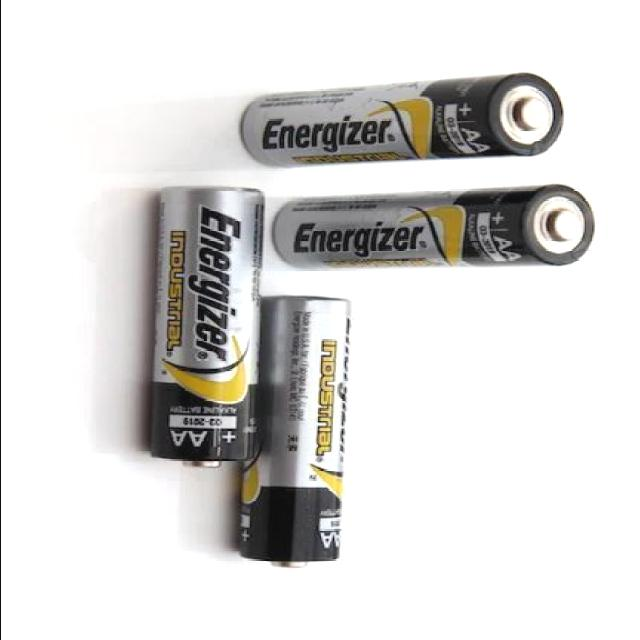AA: (228, 292, 355, 570), (147, 184, 269, 473), (232, 70, 567, 173), (267, 183, 598, 276)
